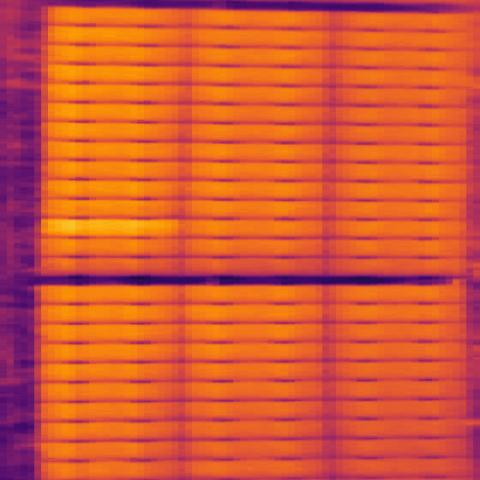fault: (36, 219, 192, 236)
